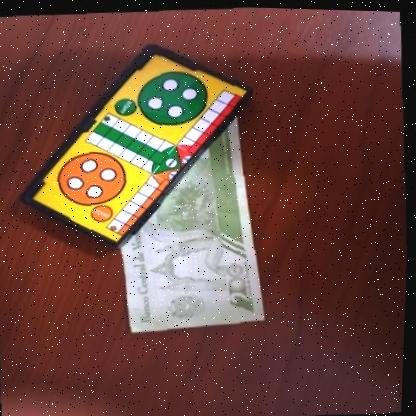fifty-back-vef: (111, 103, 275, 336)
